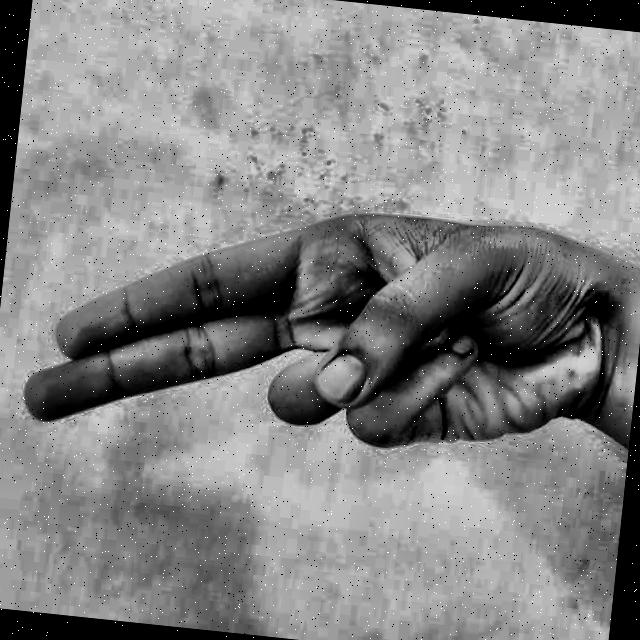Ha: (3, 138, 619, 614)
